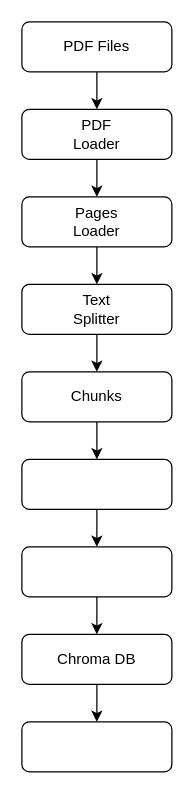
This 194x794 diagram has some shape labels left out. Here are the shapes that lost their labels. From the top down, the centre of each, then its label:
the point at 96,483: BGE Embedding
the point at 96,571: Text to Vector Embedding
the point at 96,746: Stored Vector DB
